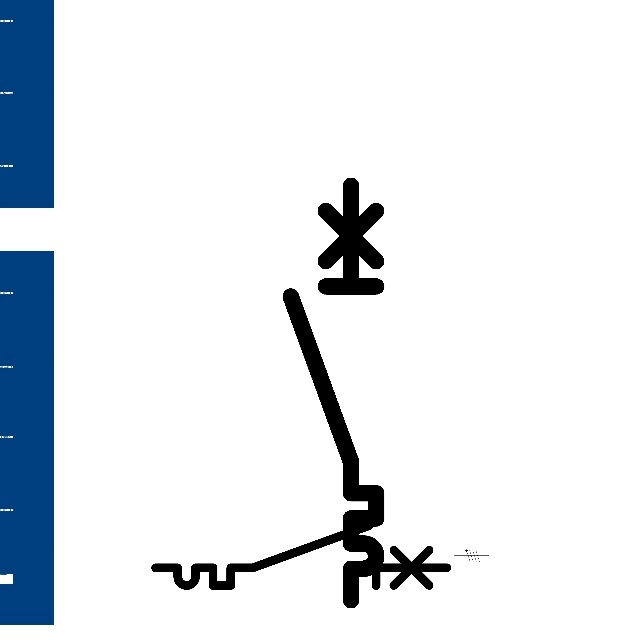interruptor_termomagnetico: (280, 175, 387, 611), (148, 518, 454, 593)
